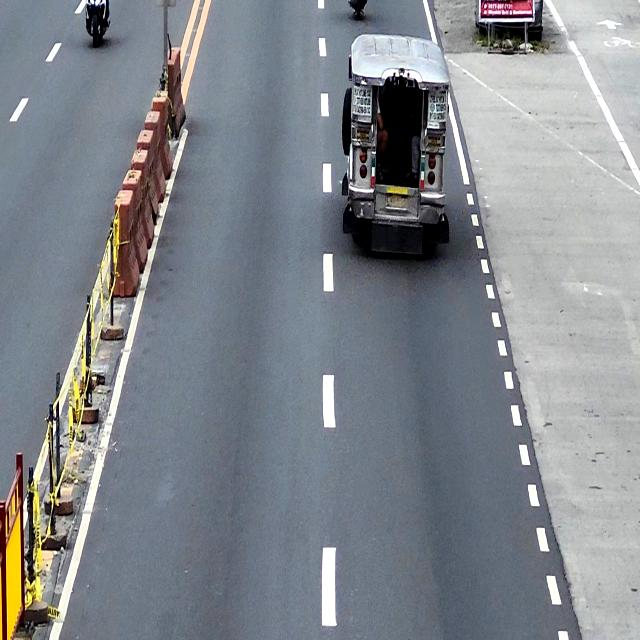Jeep: (341, 32, 449, 261)
License-Plate: (384, 195, 408, 210)
Motorcycle: (84, 0, 109, 50)
